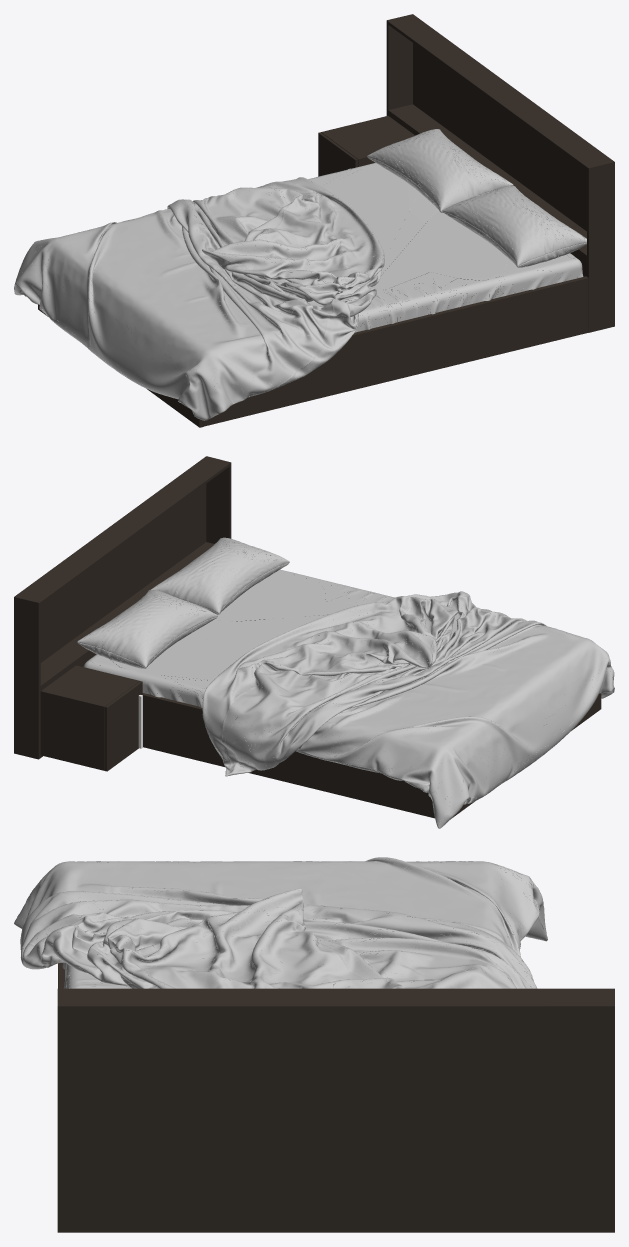
The model's file is bed-5-draco.glb.
3 views of the same model, one above another, from view 1: azimuth 30°, elevation 25°; view 2: azimuth 150°, elevation 25°; view 3: azimuth 270°, elevation 25° (orthographic). The views are drawn at different scales.
Visible parts, largest first — view 1: Object_7, Object_4, Object_3, Object_5, Object_6; view 2: Object_7, Object_3, Object_4, Object_5, Object_6; view 3: Object_7, Object_3, Object_4, Object_5, Object_6.
Boxes of the visible parts, x1,y1,x2,y2 form: Object_7: [38, 14, 614, 427]; Object_4: [15, 129, 583, 420]; Object_3: [14, 131, 586, 420]; Object_5: [14, 130, 586, 414]; Object_6: [14, 129, 586, 414]; Object_7: [14, 456, 601, 818]; Object_3: [77, 537, 614, 828]; Object_4: [78, 539, 614, 814]; Object_5: [77, 537, 614, 825]; Object_6: [78, 538, 614, 828]; Object_7: [57, 963, 614, 1232]; Object_3: [14, 857, 547, 988]; Object_4: [21, 857, 536, 988]; Object_5: [19, 858, 547, 988]; Object_6: [15, 861, 547, 988].
Size of the model in its own units: 250 by 89.9 by 216.
Materials: 3 (1 with a texture image).
